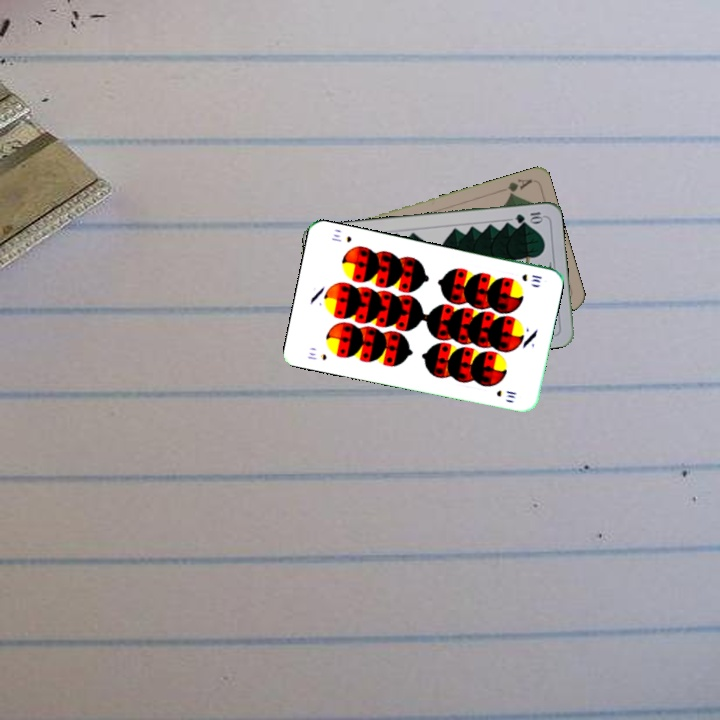G10: (511, 208, 545, 225)
GA: (504, 175, 535, 199)
S10: (518, 270, 544, 285), (303, 348, 329, 363)
